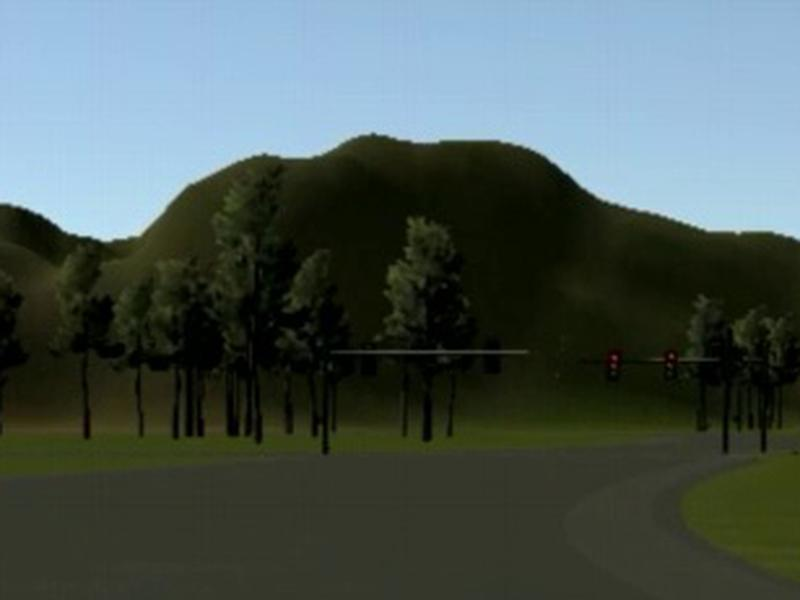Red: (607, 351, 619, 381), (665, 350, 676, 380)
